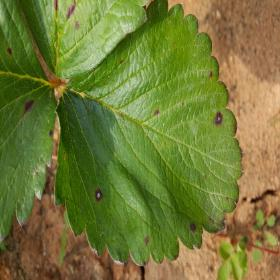Leaf Spot: (53, 0, 244, 267), (19, 0, 152, 81)
